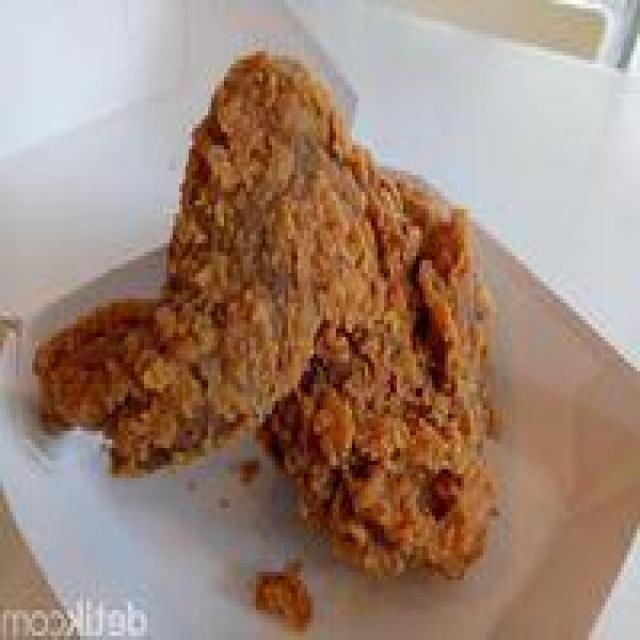Chicken -Fried Chicken-: (32, 50, 503, 583)
